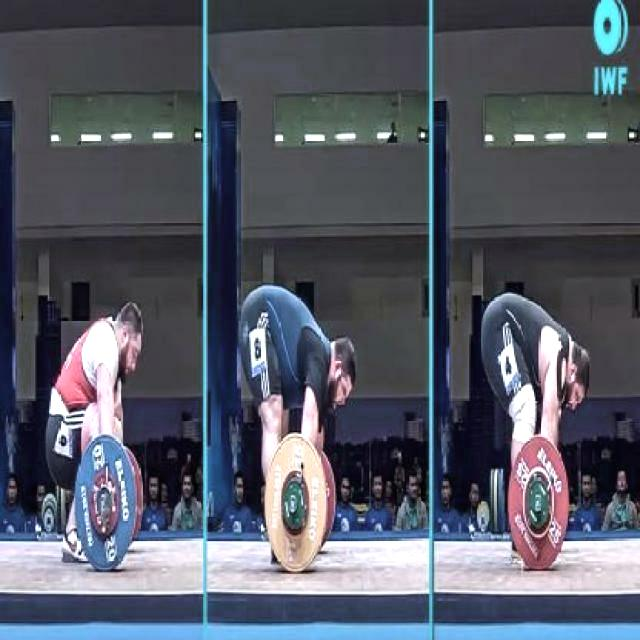barbell: (261, 427, 332, 580), (504, 432, 570, 577), (73, 432, 138, 575)
